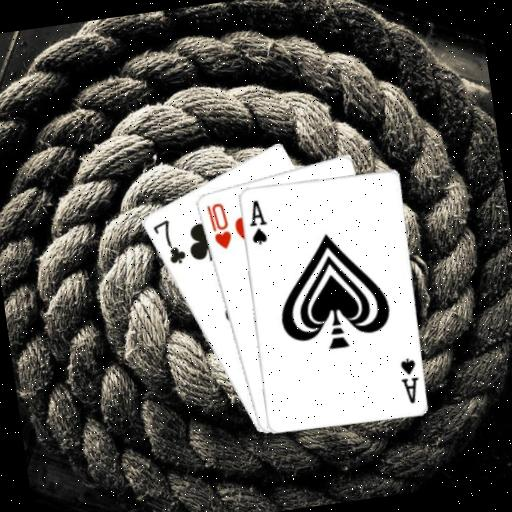10H: (203, 199, 235, 253)
7C: (148, 214, 188, 269)
AS: (242, 195, 271, 247), (395, 353, 423, 406)
